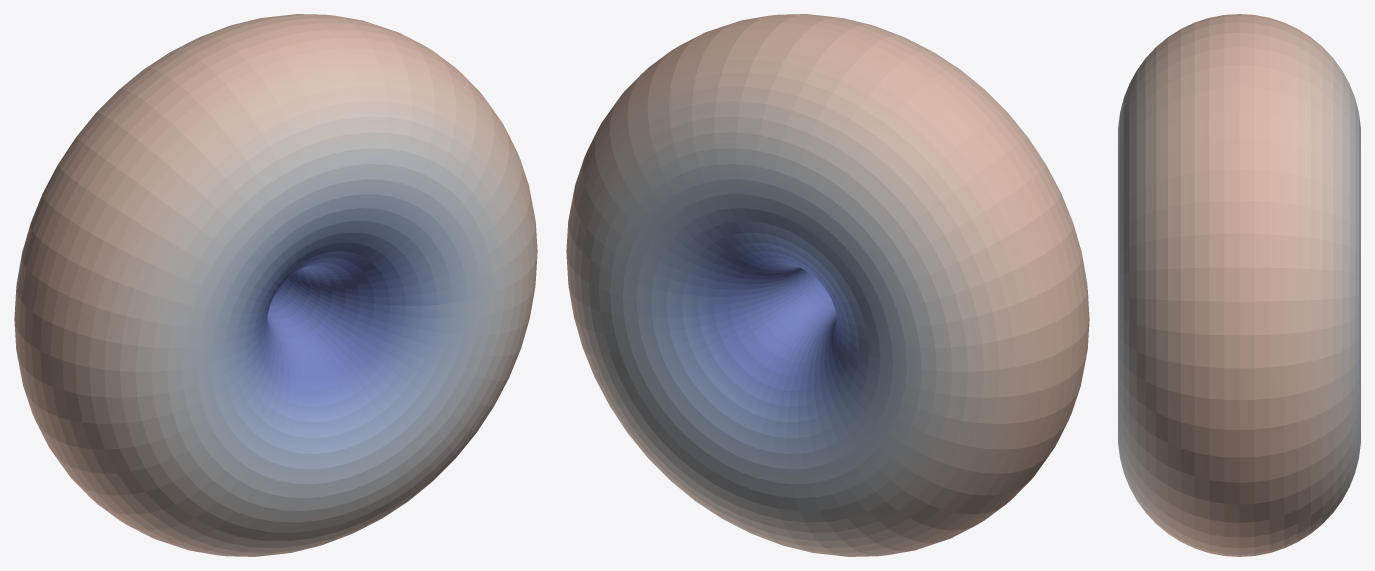
The picture shows the model from 3 angles, left to right: view 1: azimuth 30°, elevation 25°; view 2: azimuth 150°, elevation 25°; view 3: azimuth 270°, elevation 25°; orthographic projection. The views are drawn at different scales.
Parts seen in each view (by area): view 1: world; view 2: world; view 3: world.
Part boxes in pixels (box(x1,y1,x2,y2)): world: box(14, 14, 537, 556); world: box(566, 14, 1089, 556); world: box(1118, 14, 1360, 556).
Size of the model in its own units: 20.53 by 20.49 by 9.18.
